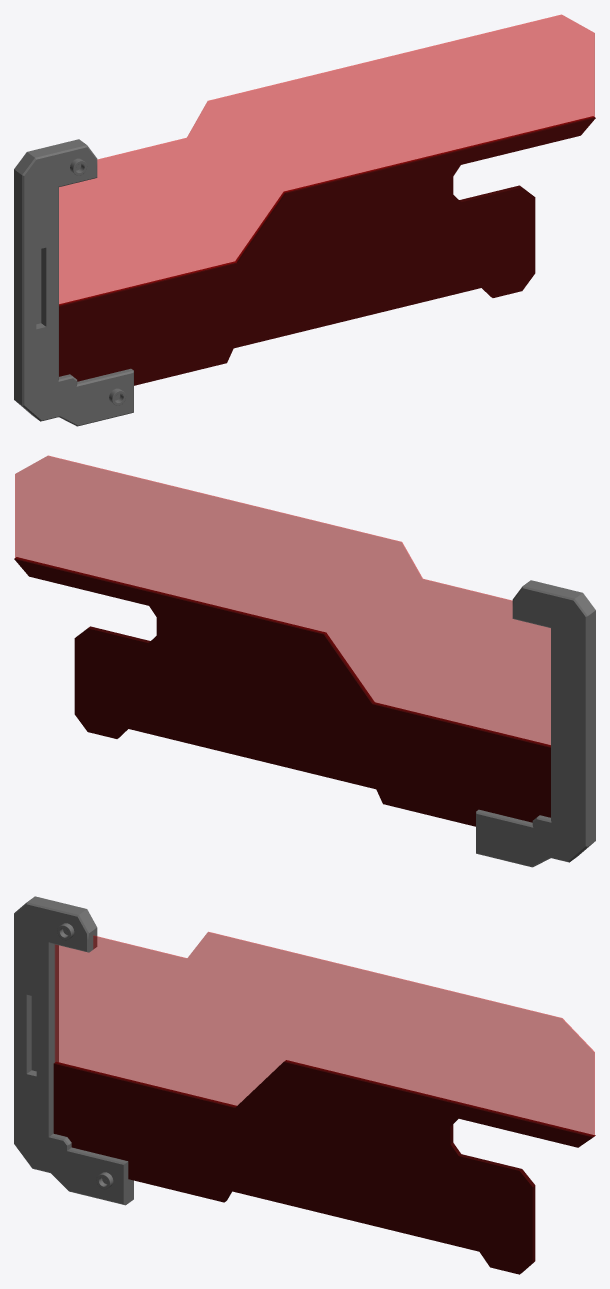
Rendered from Ticket.fbx.
3 renders of one model, top to bottom at view 1: azimuth 30°, elevation 25°; view 2: azimuth 150°, elevation 25°; view 3: azimuth 330°, elevation 25°, orthographic.
Parts seen in each view (by area): view 1: pCylinder4; view 2: pCylinder4; view 3: pCylinder4.
Part boxes in pixels (<box>): pCylinder4: <box>14,14,595,426</box>; pCylinder4: <box>14,455,595,867</box>; pCylinder4: <box>14,896,595,1274</box>.
Bounding box in the file's own units: 0.2085 × 0.1001 × 0.00805.
